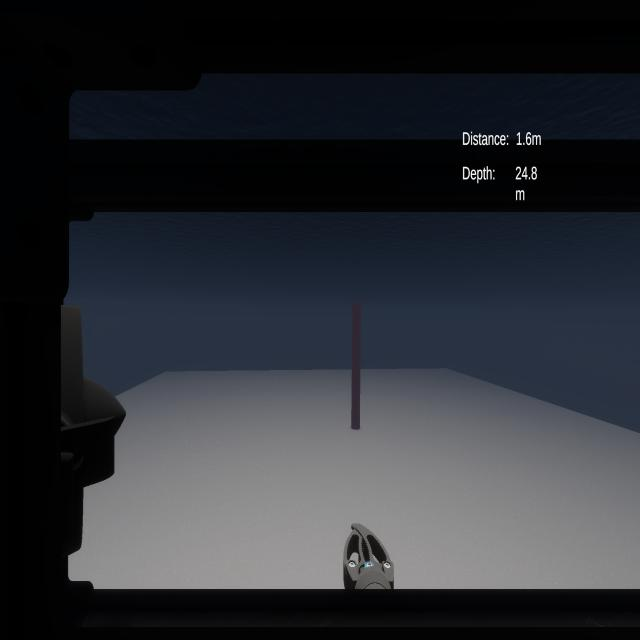Depth: (460, 161, 548, 205)
Distance: (460, 125, 547, 153)
Pole: (349, 293, 364, 438)
